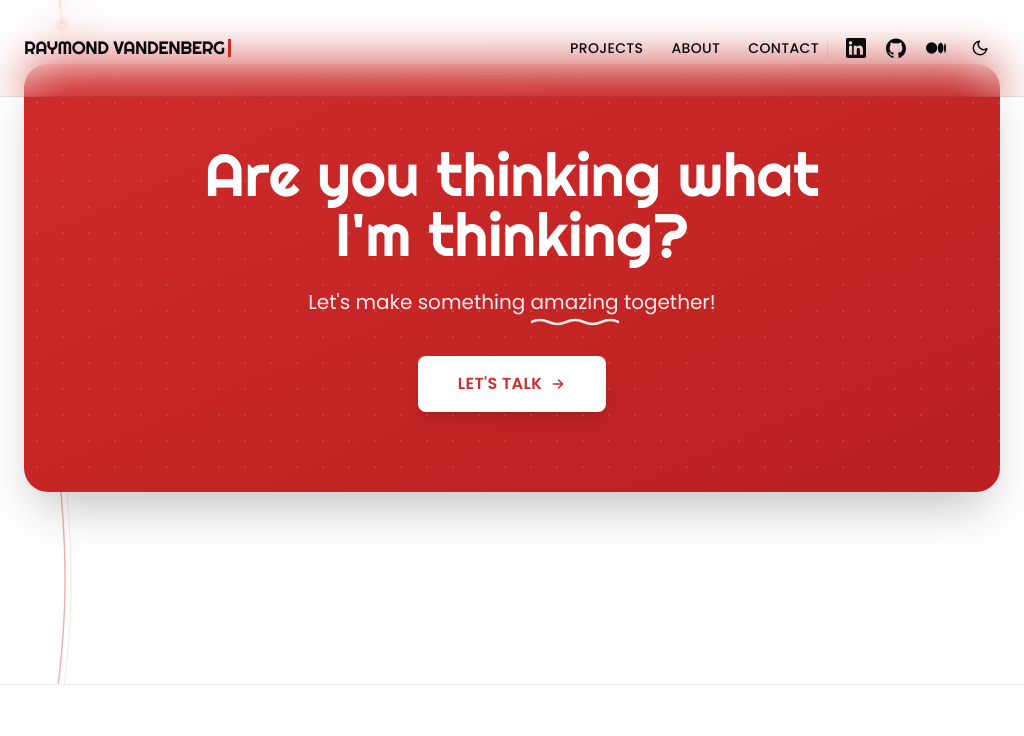
Test: Portfolio smoke tests › opens the contact modal from Let's Talk
The image size is (1024, 736).
(page scrolled)
Click the button "Let's Talk" at x=512, y=384, box [418,356,606,412]
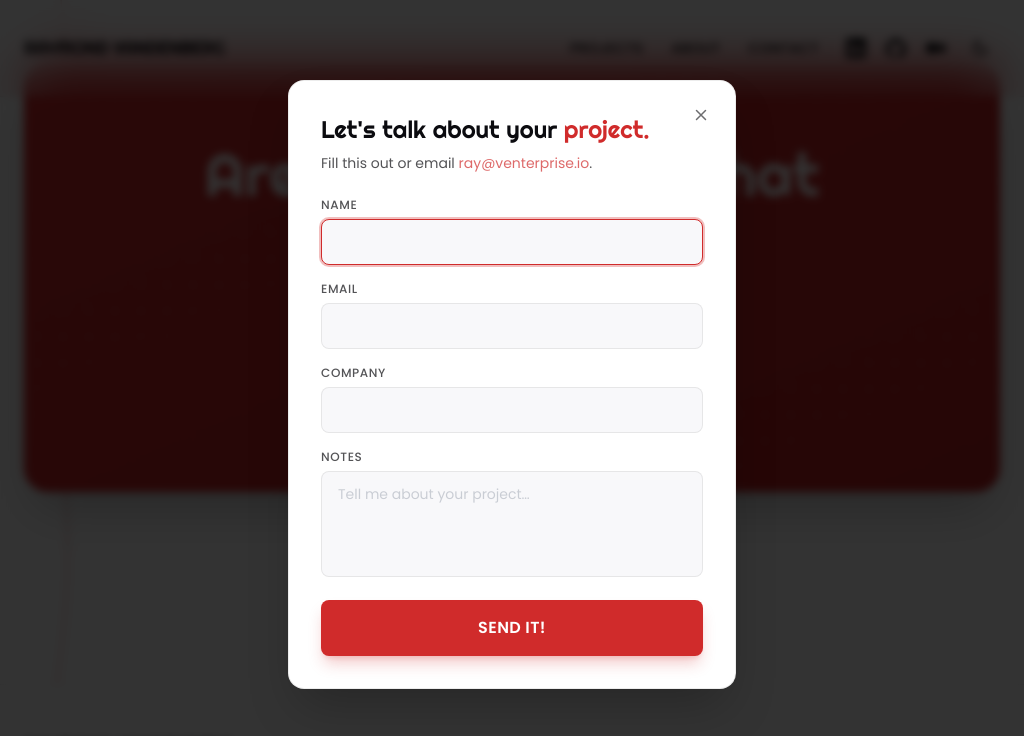
Expected: the heading "Let's talk about your project." is shown, [321,112,703,144]
